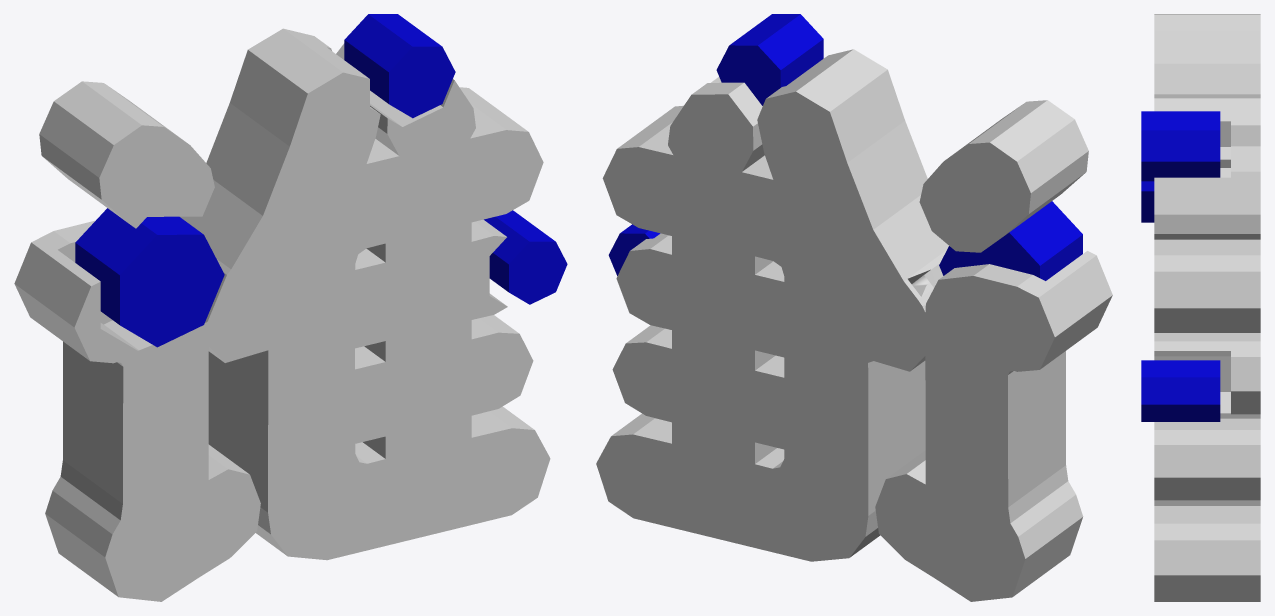
File: Ch_Lite_China_谁_01.fbx
3 renders of one model, left to right at view 1: azimuth 30°, elevation 25°; view 2: azimuth 150°, elevation 25°; view 3: azimuth 270°, elevation 25°, orthographic. The views are drawn at different scales.
Parts seen in each view (by area): view 1: sphere1; view 2: sphere1; view 3: sphere1.
Part boxes in pixels (x1,y1,x2,y2): sphere1: (14,14,567,601); sphere1: (596,14,1112,601); sphere1: (1141,14,1260,601).
Bounding box in the file's own units: 0.9339 × 0.9202 × 0.2242.
